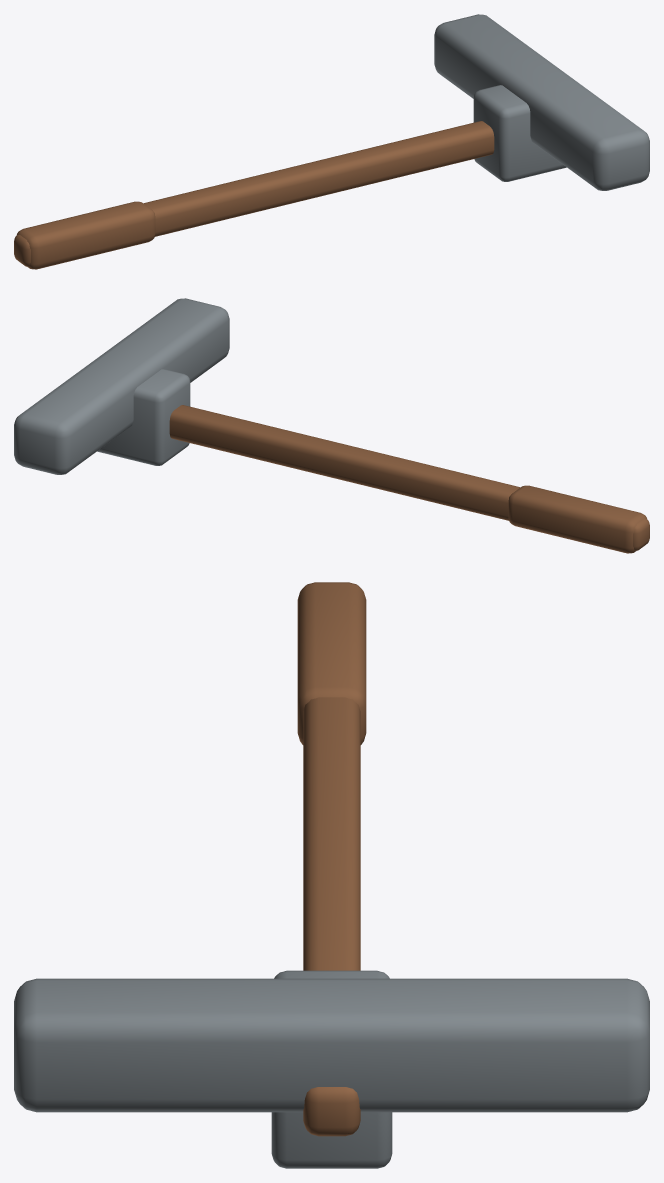
Rendered from SM_FieldPickaxe.glb.
The picture shows the model from 3 angles, top to bottom: view 1: azimuth 30°, elevation 25°; view 2: azimuth 150°, elevation 25°; view 3: azimuth 270°, elevation 25°; orthographic projection. The views are drawn at different scales.
Visible parts, largest first — view 1: SM_FieldPickaxe; view 2: SM_FieldPickaxe; view 3: SM_FieldPickaxe.
Boxes of the visible parts, x1,y1,x2,y2 form: SM_FieldPickaxe: (14,14,649,269); SM_FieldPickaxe: (14,298,649,553); SM_FieldPickaxe: (14,582,649,1168).
Size of the model in its own units: 0.95 by 0.1375 by 0.5.
